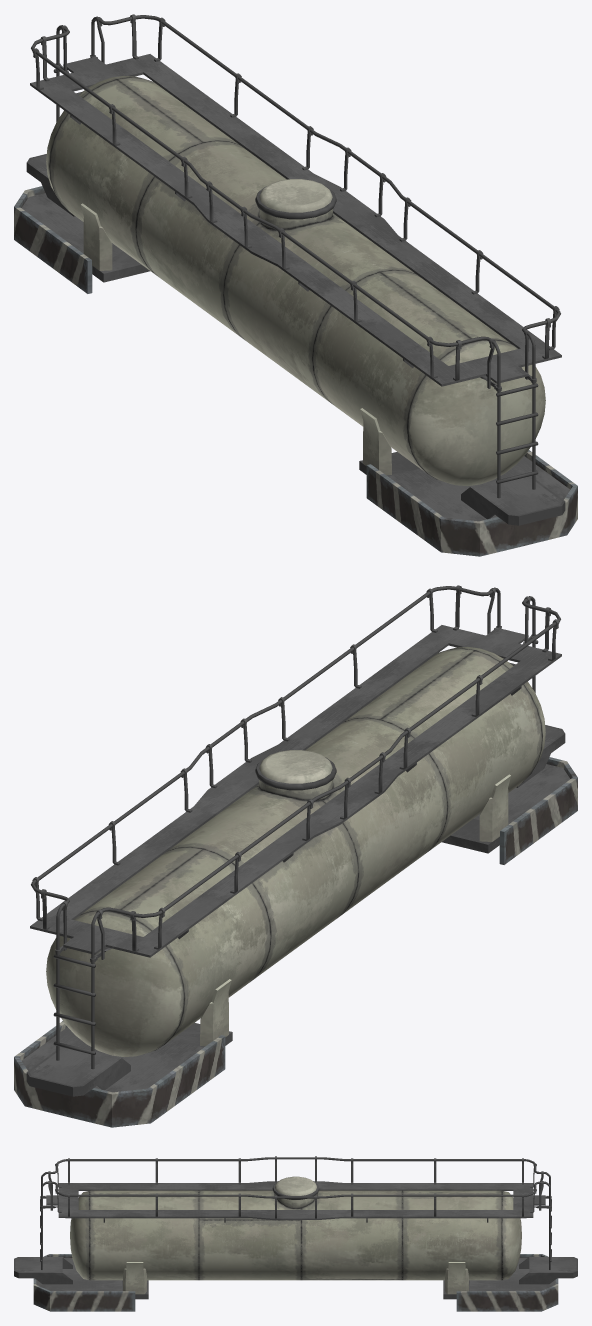
The model's file is FluidWagon_Body.fbx.
3 renders of one model, top to bottom at view 1: azimuth 30°, elevation 25°; view 2: azimuth 150°, elevation 25°; view 3: azimuth 270°, elevation 25°, orthographic. The views are drawn at different scales.
Parts seen in each view (by area): view 1: FluidWagon_Body; view 2: FluidWagon_Body; view 3: FluidWagon_Body.
Boxes of the visible parts, x1,y1,x2,y2 form: FluidWagon_Body: [14, 14, 577, 556]; FluidWagon_Body: [14, 585, 577, 1127]; FluidWagon_Body: [14, 1156, 577, 1311].
Size of what is drawn, in the model's own units: 263 by 351 by 1545.
